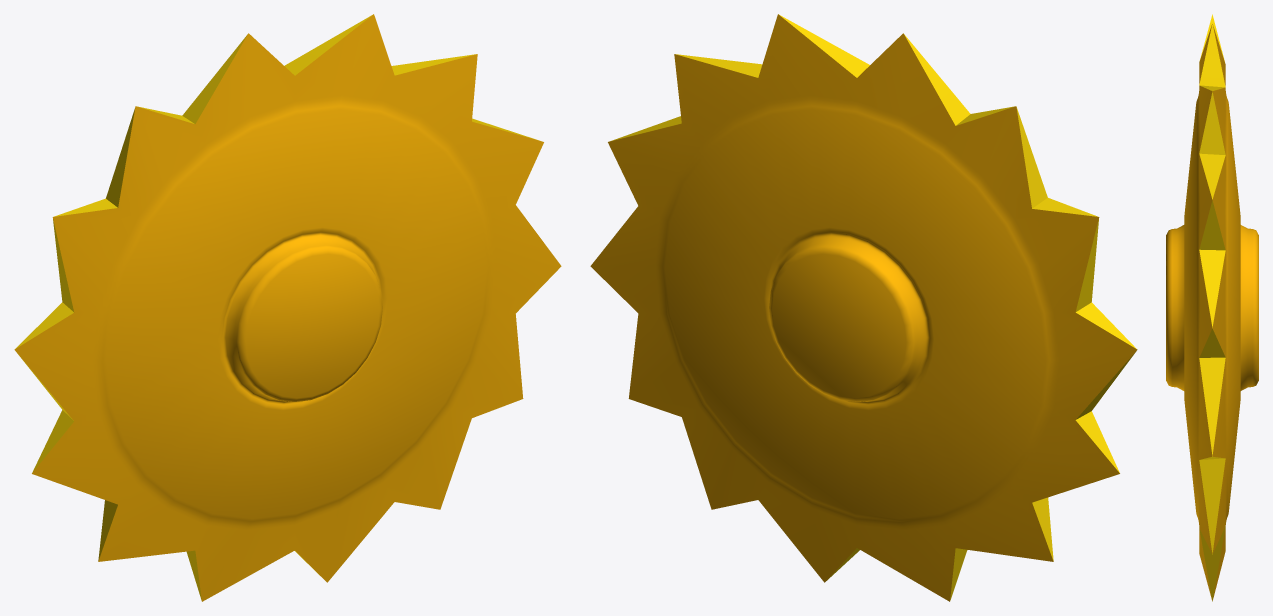
The model's file is seesaw.FBX.
The picture shows the model from 3 angles, left to right: view 1: azimuth 30°, elevation 25°; view 2: azimuth 150°, elevation 25°; view 3: azimuth 270°, elevation 25°; orthographic projection. The views are drawn at different scales.
Parts seen in each view (by area): view 1: Object001; view 2: Object001; view 3: Object001.
Part boxes in pixels (<box>): Object001: <box>14,14,561,601</box>; Object001: <box>590,14,1137,601</box>; Object001: <box>1166,14,1258,601</box>.
Size of the model in its own units: 60.25 by 59.87 by 9.45.
1 material, 1 textured.
